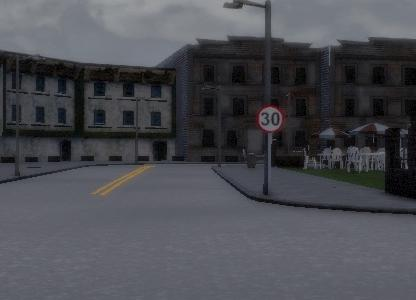Speed_30: (256, 103, 286, 134)
